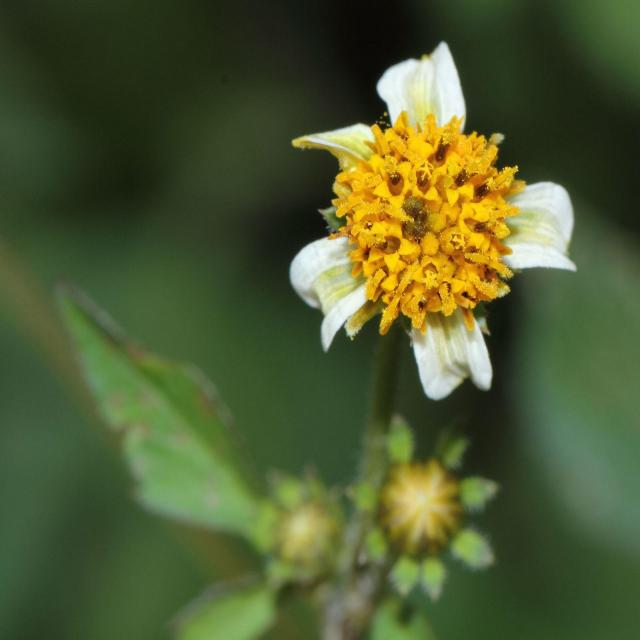organic waste: (283, 50, 580, 388)
